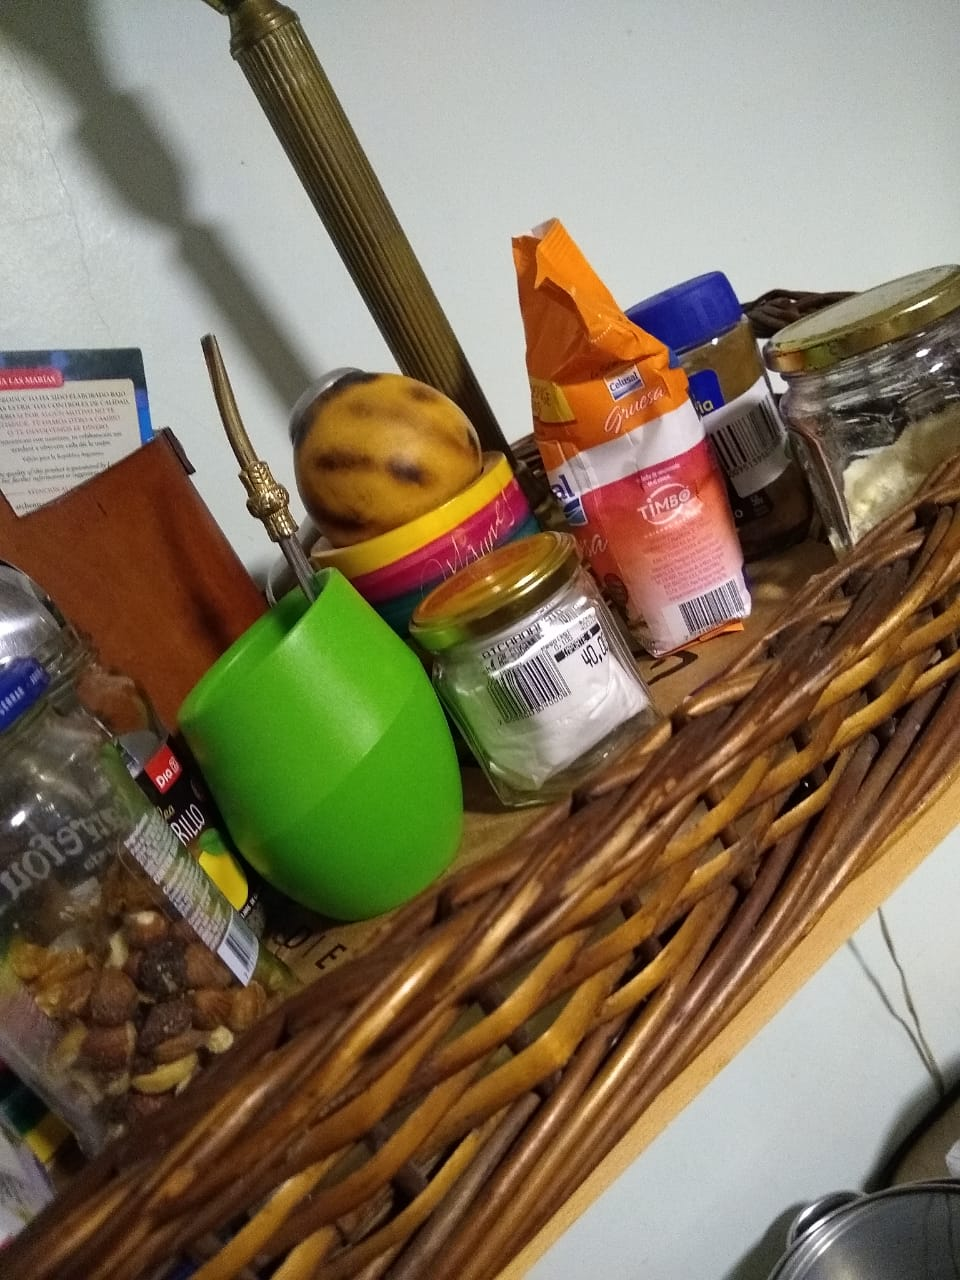mate: (175, 328, 475, 933)
plastico: (173, 326, 473, 931)
